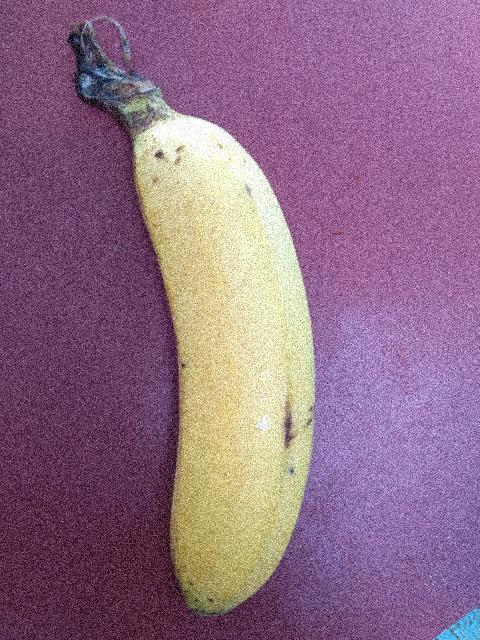freshripe: (87, 115, 360, 630)
